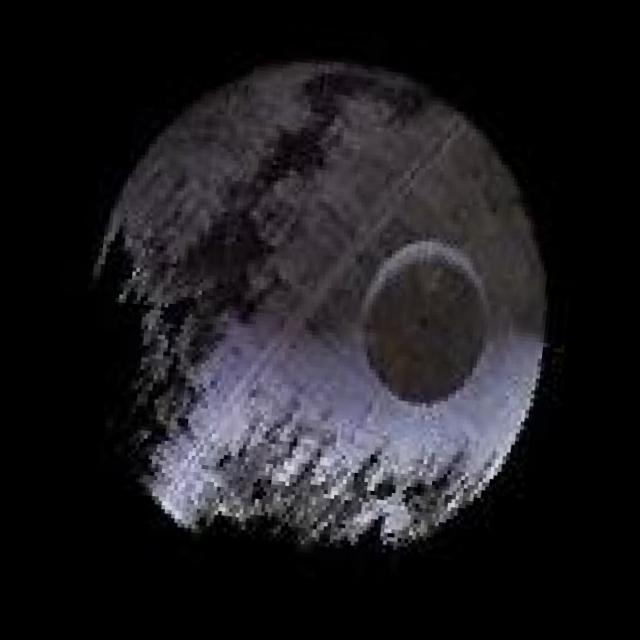Death Star: (55, 29, 578, 582)
